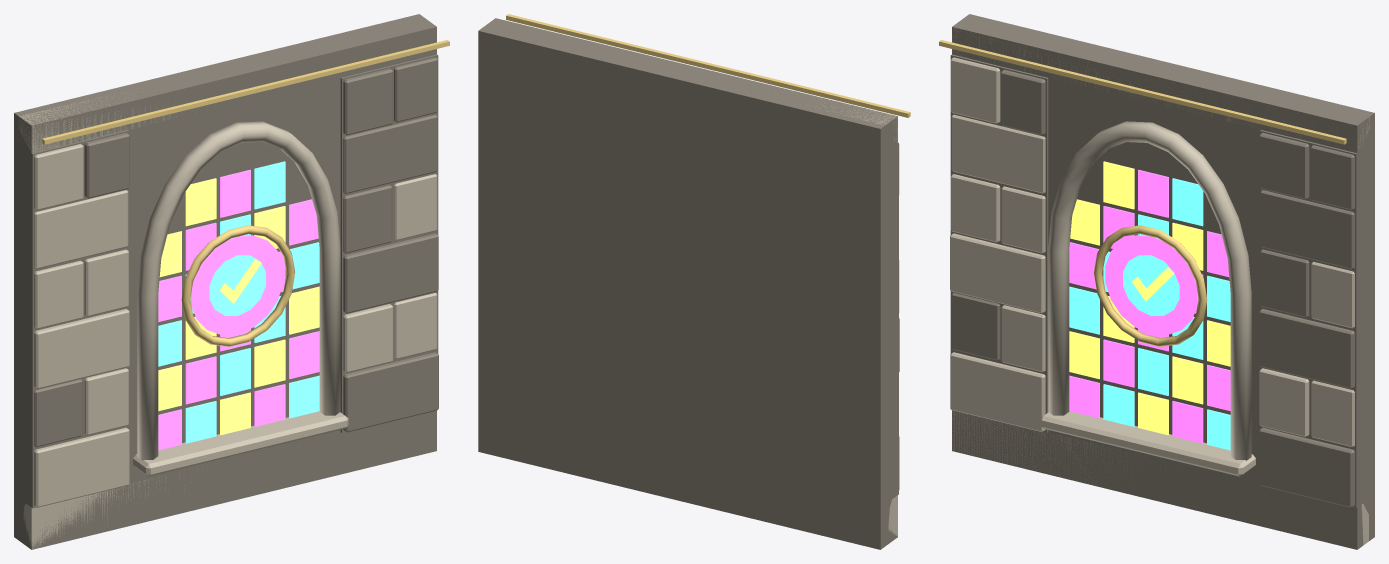
File: wall_bb_glass.glb
3 views of the same model, side by side, from view 1: azimuth 30°, elevation 25°; view 2: azimuth 150°, elevation 25°; view 3: azimuth 330°, elevation 25° (orthographic).
Parts seen in each view (by area): view 1: wall_bb_glass; view 2: wall_bb_glass; view 3: wall_bb_glass.
Boxes of the visible parts, x1,y1,x2,y2 form: wall_bb_glass: [14, 14, 449, 549]; wall_bb_glass: [478, 14, 910, 549]; wall_bb_glass: [939, 14, 1374, 549].
Bounding box in the file's own units: 4 × 4 × 0.55.
